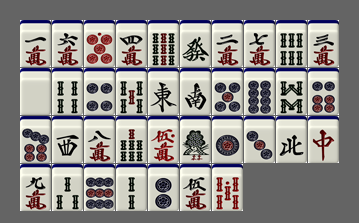0m: (148, 116, 179, 163)
0p: (84, 20, 115, 67)
0s: (212, 164, 243, 211)
1m: (20, 20, 51, 67)
1p: (212, 116, 243, 163)
1s: (180, 116, 211, 163)
1z: (148, 68, 179, 115)
2m: (212, 20, 243, 67)
2p: (148, 164, 179, 211)
2s: (116, 164, 147, 211)
2z: (180, 68, 211, 115)
3m: (308, 20, 339, 67)
3p: (244, 116, 275, 163)
3s: (52, 164, 83, 211)
3z: (52, 116, 83, 163)
4m: (116, 20, 147, 67)
4p: (84, 68, 115, 115)
4s: (52, 68, 83, 115)
4z: (276, 116, 307, 163)
5m: (180, 164, 211, 211)
5p: (212, 68, 243, 115)
5s: (116, 68, 147, 115)
5z: (20, 68, 51, 115)
6m: (52, 20, 83, 67)
6p: (308, 68, 339, 115)
6s: (276, 20, 307, 67)
6z: (180, 20, 211, 67)
7m: (244, 20, 275, 67)
7p: (20, 116, 51, 163)
7s: (116, 116, 147, 163)
7z: (308, 116, 339, 163)
8m: (84, 116, 115, 163)
8p: (244, 68, 275, 115)
8s: (276, 68, 307, 115)
9m: (20, 164, 51, 211)
9p: (84, 164, 115, 211)
9s: (148, 20, 179, 67)
